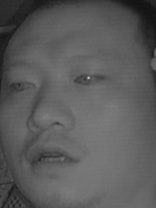eye: (72, 67, 105, 91), (8, 75, 38, 95)
mouth: (23, 139, 83, 177)
